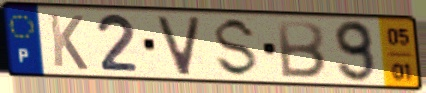2: (93, 11, 143, 77)
9: (331, 18, 379, 86)
B: (275, 19, 328, 81)
K: (46, 11, 91, 73)
S: (212, 16, 261, 80)
V: (154, 14, 204, 78)
